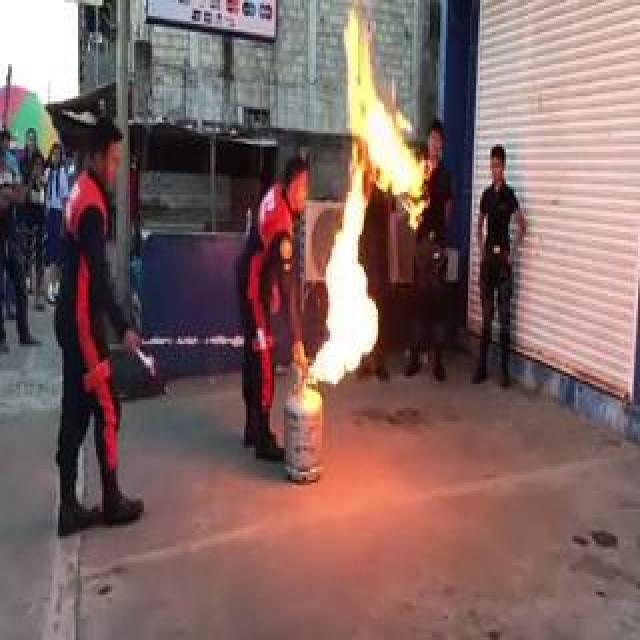Smoke: (307, 18, 423, 386)
